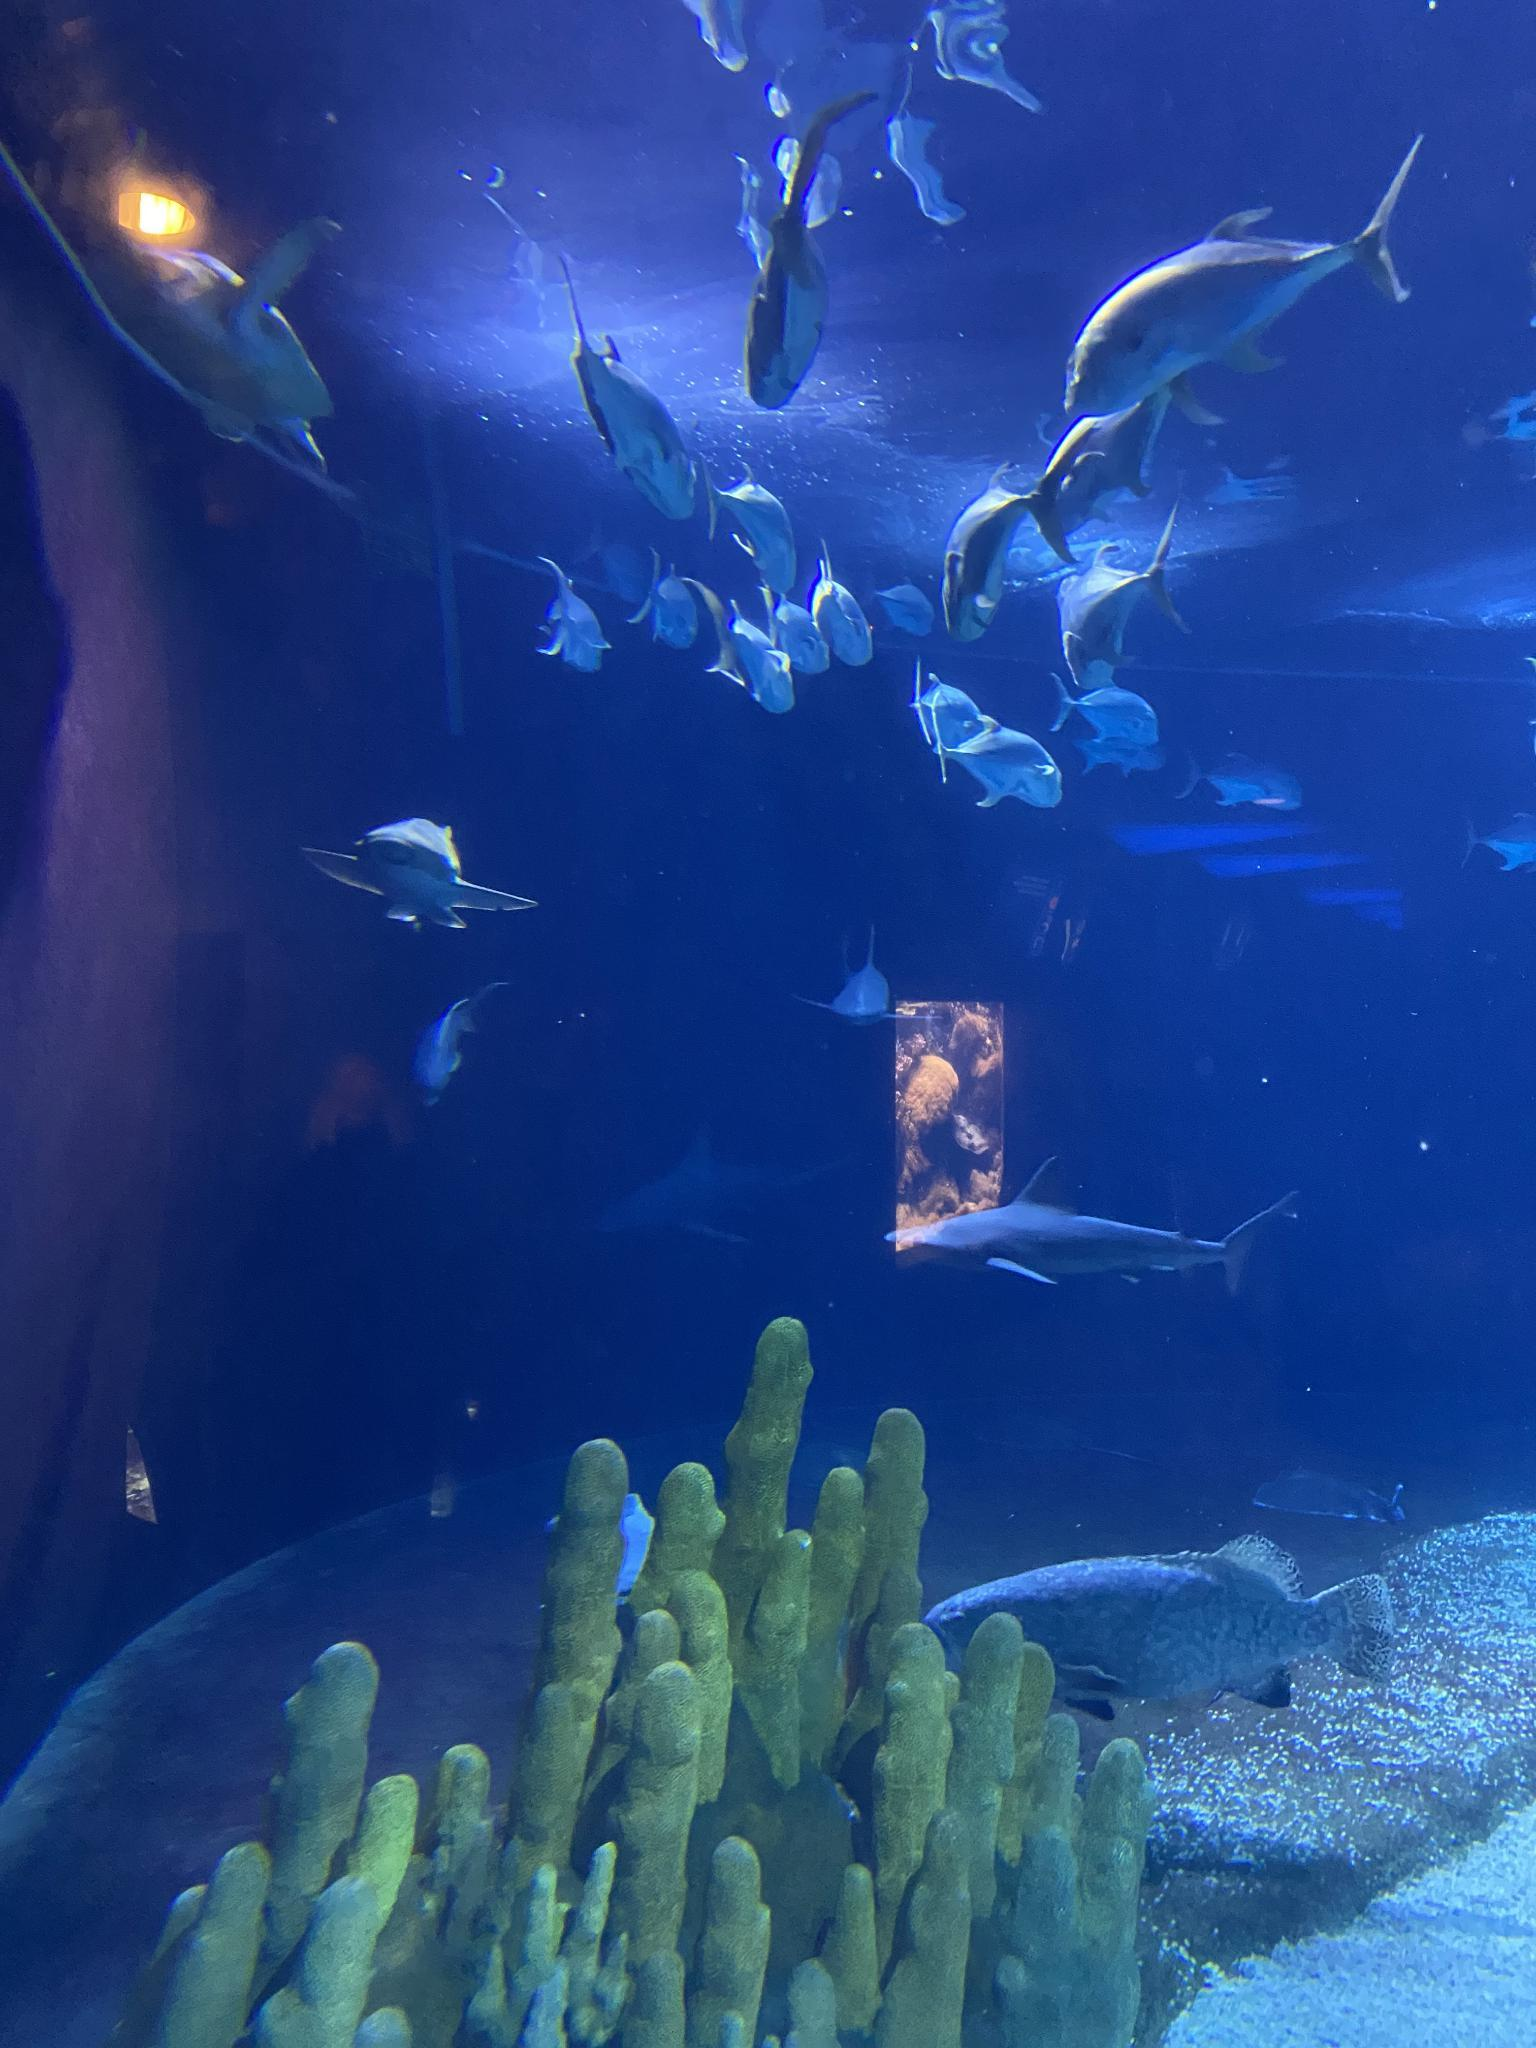fish: (1066, 136, 1427, 415), (925, 1537, 1400, 1726), (750, 88, 876, 411), (944, 443, 1081, 645), (1036, 396, 1185, 560), (1055, 506, 1186, 683), (576, 343, 699, 522), (934, 717, 1066, 814), (697, 585, 796, 713), (707, 465, 798, 580), (535, 556, 611, 669), (1178, 748, 1303, 816), (1048, 672, 1161, 746), (813, 544, 876, 664), (759, 578, 832, 679), (632, 545, 694, 647), (910, 666, 987, 747), (1461, 812, 1536, 872), (1078, 732, 1166, 781), (866, 579, 934, 636)
shark: (884, 1156, 1299, 1296), (595, 1128, 865, 1240), (300, 817, 538, 930), (793, 922, 943, 1025), (411, 979, 505, 1108)
stingray: (1258, 1465, 1408, 1529)
